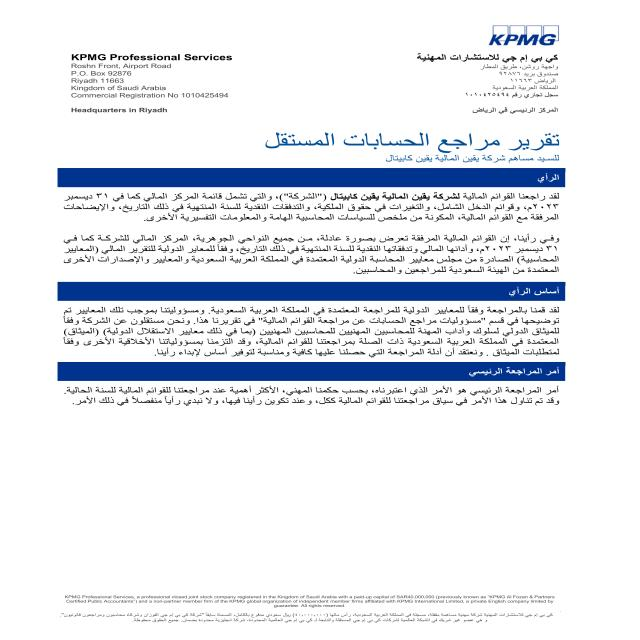auditor_report: (258, 126, 566, 154)
